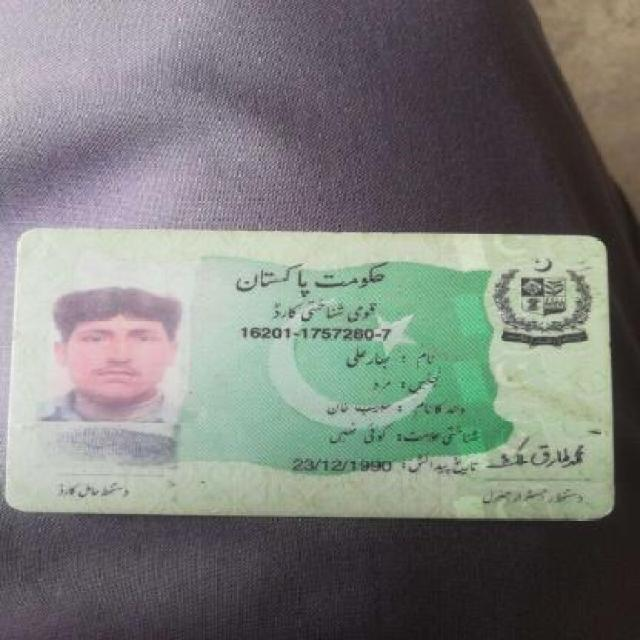Front: (6, 225, 614, 517)
